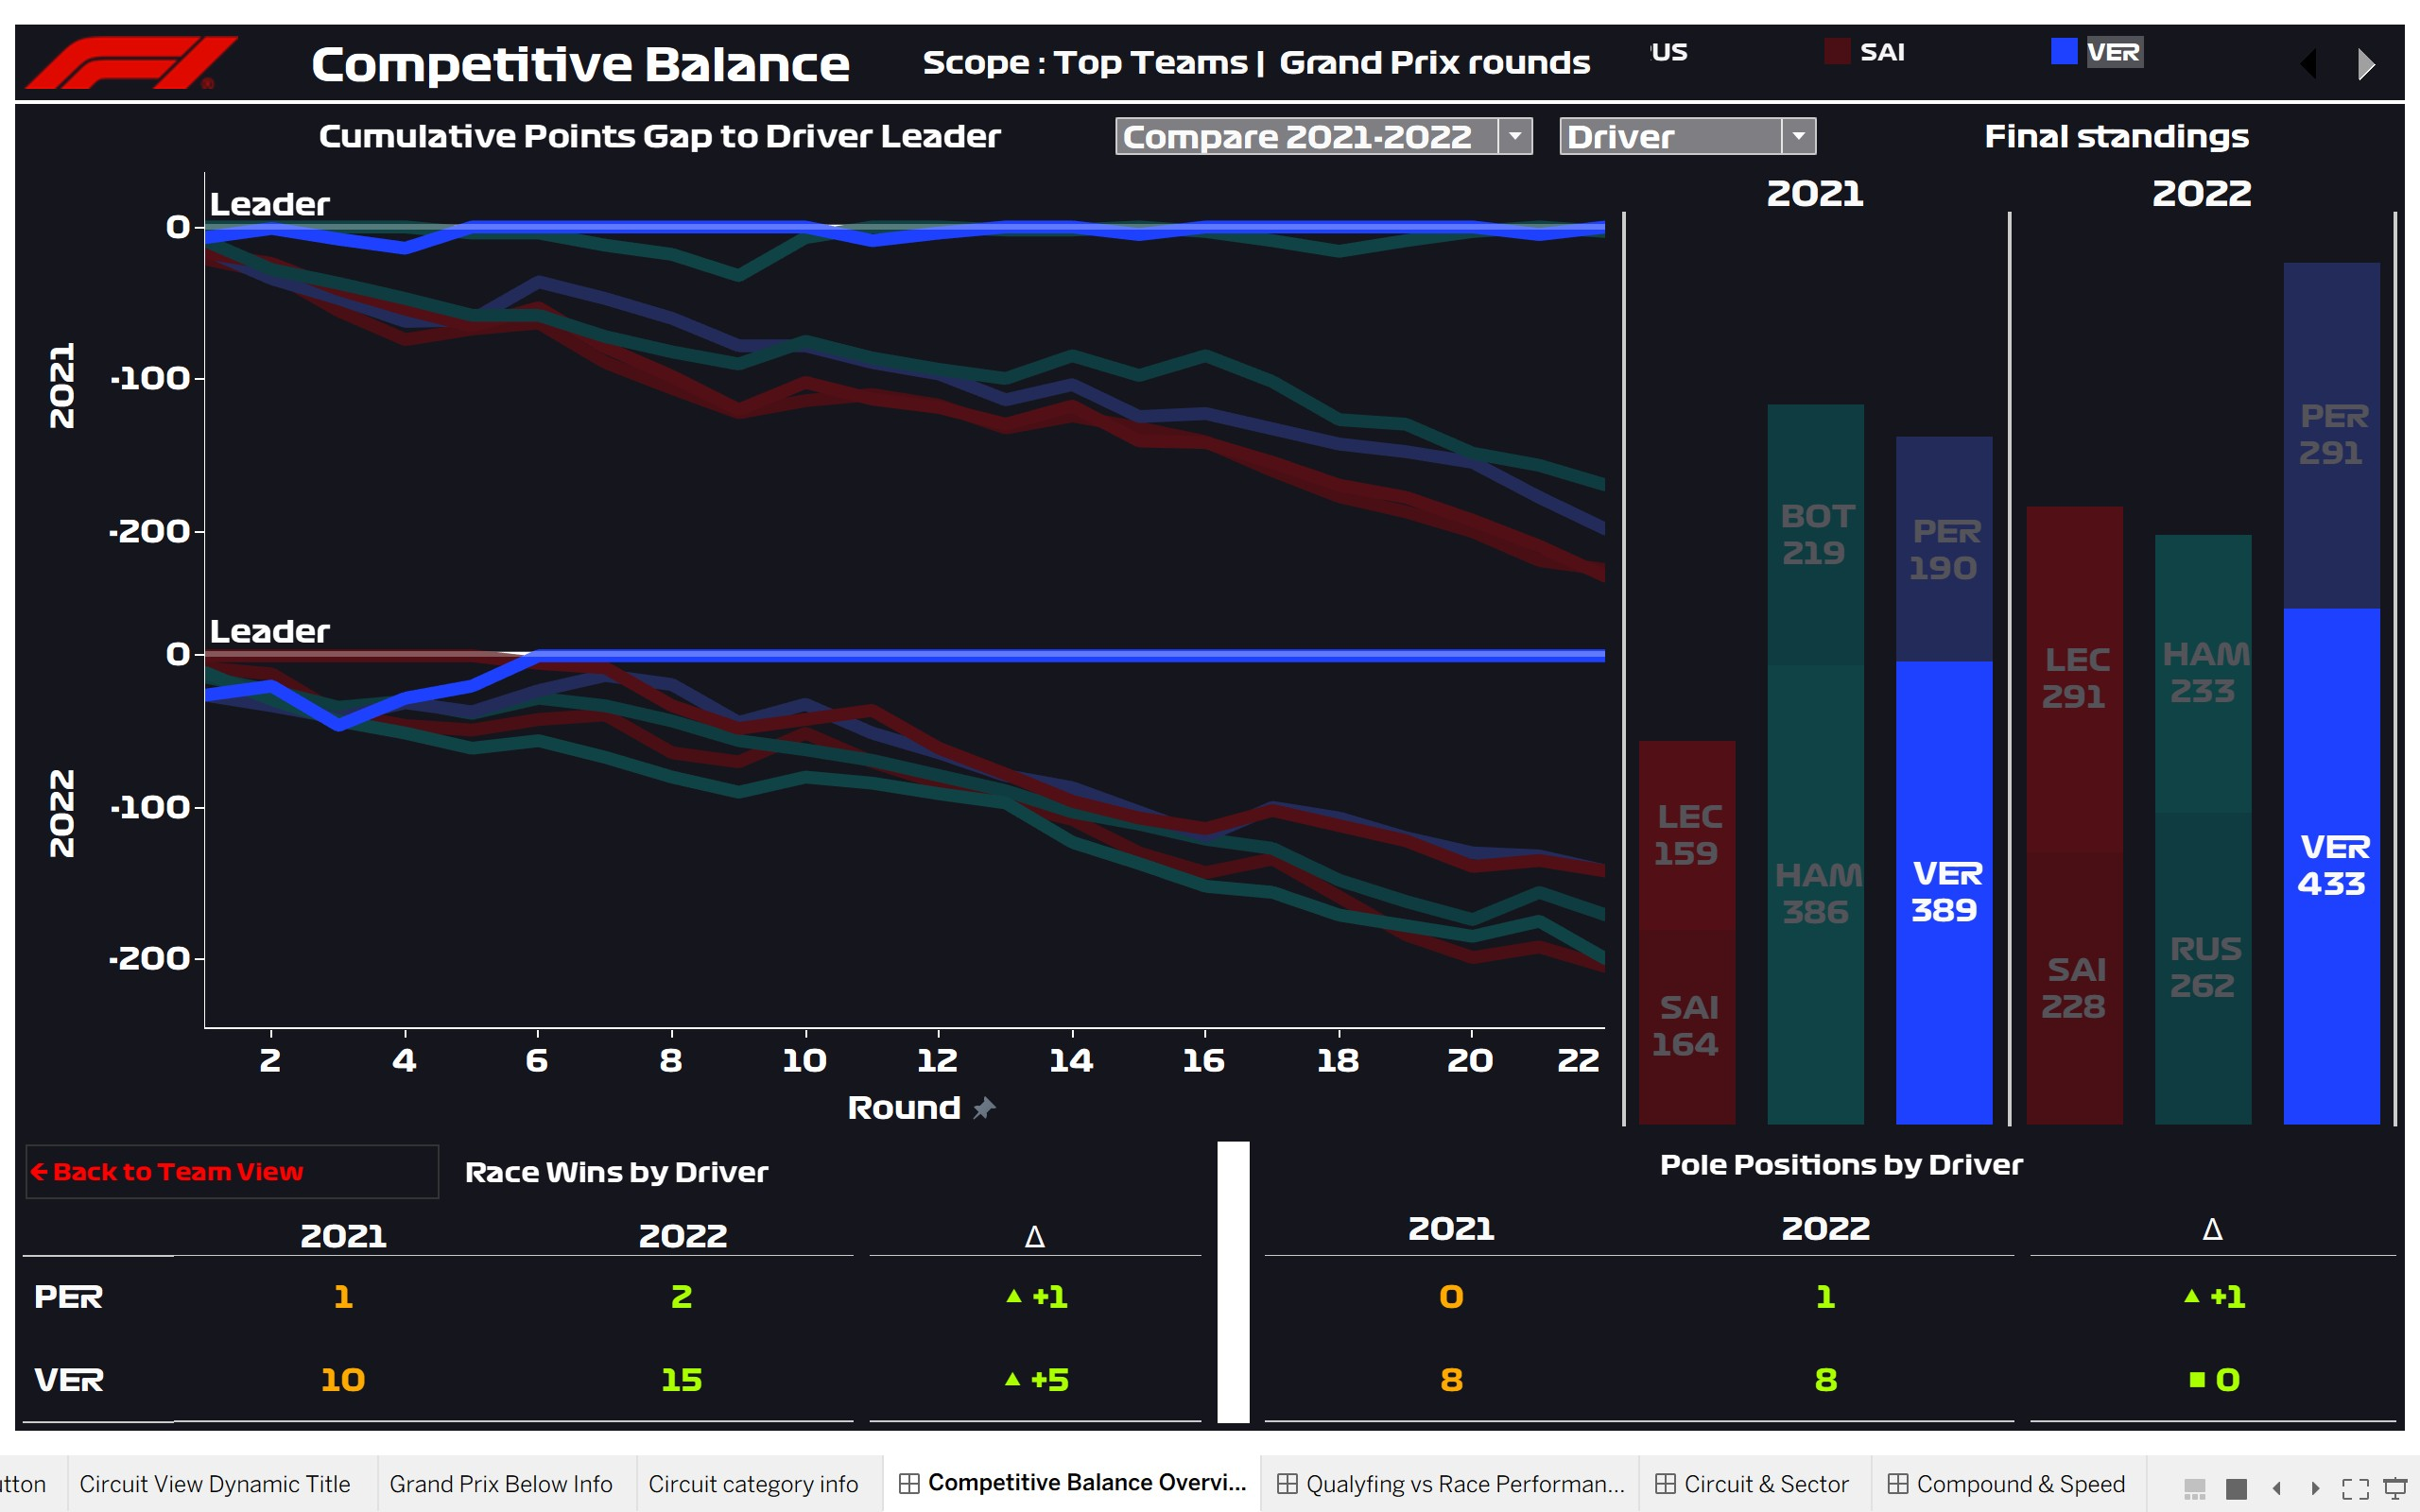

The page's visual inventory and layout, read from the dashboard file:
{"tool":"tableau","page":{"name":"Competitive Balance Overview","canvas":[1280,760],"ordinal":1},"visuals":[{"type":"image","param":"Image/f1_logo.png","box":[8,8,122,40]},{"type":"text","box":[130,8,355.5,40]},{"type":"text","box":[485.5,8,383.5,40]},{"type":"legend","title":"Cumulative Points Gap to Team Leader","param":"[federated.0cgmptb12yswpe1aakzxp0ybaw1q].[none:team_name:nk]","box":[869,8,403,40]},{"type":"legend","title":"Cumulative Points Gap to Driver Leader","param":"[federated.0cgmptb12yswpe1aakzxp0ybaw1q].[none:abbreviation:nk]","box":[869,8,403,40]},{"type":"blank","box":[8,52,152,30]},{"type":"worksheet","title":"Cumulative Gap Label","mark":"Automatic","box":[160,52,423,30]},{"type":"parameter","param":"[Parameters].[Parameter 4]","box":[583,52,235,30]},{"type":"parameter","param":"[Parameters].[Parameter 0653406781276160]","box":[818,52,150,30]},{"type":"text","box":[968,52,304,30]},{"type":"worksheet","title":"Cumulative Points Gap to Team Leader","mark":"Line","rows":["season_year"],"cols":["round_number"],"box":[8,82,845,513]},{"type":"worksheet","title":"Cumulative Points Gap to Driver Leader","mark":"Line","rows":["season_year"],"cols":["round_number"],"box":[8,82,845,513]},{"type":"worksheet","title":"Driver Points","mark":"Bar","rows":["Calculation_0401051634073603"],"cols":["season_year","team_name"],"box":[853,82,419,513]},{"type":"worksheet","title":"Team Points","mark":"Bar","rows":["Calculation_0401051634073603","Calculation_0653406790344707"],"cols":["season_year","team_name"],"box":[853,82,419,513]},{"type":"worksheet","title":"Back to Team View","mark":"Automatic","box":[8,595,230,40]},{"type":"text","box":[8,595,261,40]},{"type":"text","box":[8,595,297,32]},{"type":"worksheet","title":"Back to Team Outcome Matrix","mark":"Automatic","box":[8,595,332,32]},{"type":"worksheet","title":"Race Wins Title","mark":"Automatic","box":[269,595,371,40]},{"type":"worksheet","title":"Race Outcome Dynamic Title","mark":"Automatic","box":[305,595,484,32]},{"type":"blank","box":[640,595,25,157]},{"type":"worksheet","title":"Pole Positions Title","mark":"Automatic","box":[665,595,607,32]},{"type":"blank","box":[789,595,260,32]},{"type":"blank","box":[1070,595,170,32]},{"type":"text","box":[1070,595,202,32]},{"type":"worksheet","title":"Grand Prix Race Outcome Matrix","mark":"Square","rows":["team_name"],"cols":["round_number"],"box":[8,627,1078.8,125]},{"type":"worksheet","title":"Grand Prix Driver Outcome Matrix","mark":"Square","rows":["abbreviation"],"cols":["round_number"],"box":[8,627,1083,125]},{"type":"worksheet","title":"Pole Positions Team","mark":"Automatic","rows":["team_name"],"cols":["season_year"],"box":[665,627,404.7,125]},{"type":"worksheet","title":"Pole Positions Driver","mark":"Automatic","rows":["abbreviation"],"cols":["season_year"],"box":[665,627,404.7,125]},{"type":"worksheet","title":"Pole Positions Team Delta","mark":"Automatic","rows":["team_name"],"cols":["Calculation_2062153321328643"],"box":[1069.7,627,202.3,125]},{"type":"worksheet","title":"Pole Positions Driver Delta","mark":"Automatic","rows":["abbreviation"],"cols":["Calculation_2062153321328643"],"box":[1069.7,627,202.3,125]},{"type":"legend","title":"Grand Prix Race Outcome Matrix","param":"[federated.0cgmptb12yswpe1aakzxp0ybaw1q].[usr:Calculation_1704253078229019:nk]","box":[1086.8,627,185,125]},{"type":"legend","title":"Grand Prix Driver Outcome Matrix","param":"[federated.0cgmptb12yswpe1aakzxp0ybaw1q].[usr:Calculation_1233949996888065:nk]","box":[1091,627,168,125]},{"type":"worksheet","title":"Race Wins Team","mark":"Text","rows":["team_name"],"cols":["season_year"],"box":[8,635,458.6,117]},{"type":"worksheet","title":"Race Wins Driver","mark":"Text","rows":["abbreviation"],"cols":["season_year"],"box":[8,635,448,117]},{"type":"worksheet","title":"Race Wins Driver Delta","mark":"Text","rows":["abbreviation"],"cols":["Calculation_2062153321328643"],"box":[456,635,184,117]},{"type":"worksheet","title":"Race Wins Team Delta","mark":"Text","rows":["team_name"],"cols":["Calculation_2062153321328643"],"box":[466.6,635,173.3,117]}]}

Visuals, with their boxes on the page's 1280x760 design canvas (x1, y1, x2, y2). These are canvas units, not pixel positions in the 2420x1512 screenshot, which may show the page scaled, cropped or inside an application window:
image: bbox=[8, 8, 130, 48]
text: bbox=[130, 8, 486, 48]
text: bbox=[486, 8, 869, 48]
"Cumulative Points Gap to Team Leader" legend: bbox=[869, 8, 1272, 48]
"Cumulative Points Gap to Driver Leader" legend: bbox=[869, 8, 1272, 48]
blank: bbox=[8, 52, 160, 82]
"Cumulative Gap Label" worksheet: bbox=[160, 52, 583, 82]
parameter: bbox=[583, 52, 818, 82]
parameter: bbox=[818, 52, 968, 82]
text: bbox=[968, 52, 1272, 82]
"Cumulative Points Gap to Team Leader" worksheet (Line marks): bbox=[8, 82, 853, 595]
"Cumulative Points Gap to Driver Leader" worksheet (Line marks): bbox=[8, 82, 853, 595]
"Driver Points" worksheet (Bar marks): bbox=[853, 82, 1272, 595]
"Team Points" worksheet (Bar marks): bbox=[853, 82, 1272, 595]
"Back to Team View" worksheet: bbox=[8, 595, 238, 635]
text: bbox=[8, 595, 269, 635]
text: bbox=[8, 595, 305, 627]
"Back to Team Outcome Matrix" worksheet: bbox=[8, 595, 340, 627]
"Race Wins Title" worksheet: bbox=[269, 595, 640, 635]
"Race Outcome Dynamic Title" worksheet: bbox=[305, 595, 789, 627]
blank: bbox=[640, 595, 665, 752]
"Pole Positions Title" worksheet: bbox=[665, 595, 1272, 627]
blank: bbox=[789, 595, 1049, 627]
blank: bbox=[1070, 595, 1240, 627]
text: bbox=[1070, 595, 1272, 627]
"Grand Prix Race Outcome Matrix" worksheet (Square marks): bbox=[8, 627, 1087, 752]
"Grand Prix Driver Outcome Matrix" worksheet (Square marks): bbox=[8, 627, 1091, 752]
"Pole Positions Team" worksheet: bbox=[665, 627, 1070, 752]
"Pole Positions Driver" worksheet: bbox=[665, 627, 1070, 752]
"Pole Positions Team Delta" worksheet: bbox=[1070, 627, 1272, 752]
"Pole Positions Driver Delta" worksheet: bbox=[1070, 627, 1272, 752]
"Grand Prix Race Outcome Matrix" legend: bbox=[1087, 627, 1272, 752]
"Grand Prix Driver Outcome Matrix" legend: bbox=[1091, 627, 1259, 752]
"Race Wins Team" worksheet (Text marks): bbox=[8, 635, 467, 752]
"Race Wins Driver" worksheet (Text marks): bbox=[8, 635, 456, 752]
"Race Wins Driver Delta" worksheet (Text marks): bbox=[456, 635, 640, 752]
"Race Wins Team Delta" worksheet (Text marks): bbox=[467, 635, 640, 752]
